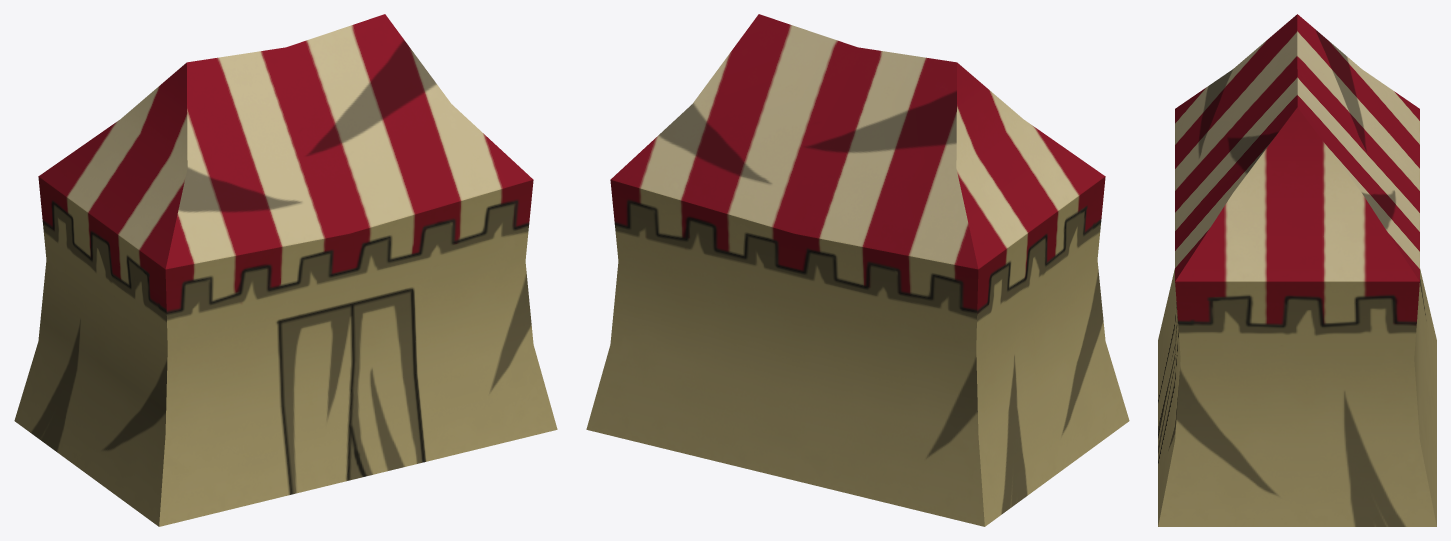
The model's file is arena_12.FBX.
3 views of the same model, side by side, from view 1: azimuth 30°, elevation 25°; view 2: azimuth 150°, elevation 25°; view 3: azimuth 270°, elevation 25° (orthographic). The views are drawn at different scales.
Parts seen in each view (by area): view 1: Box009; view 2: Box009; view 3: Box009.
Part boxes in pixels (x1=…): Box009: x1=14, y1=14, x2=557, y2=526; Box009: x1=586, y1=14, x2=1129, y2=526; Box009: x1=1158, y1=14, x2=1436, y2=526.
Bounding box in the file's own units: 644 × 598 × 405.
